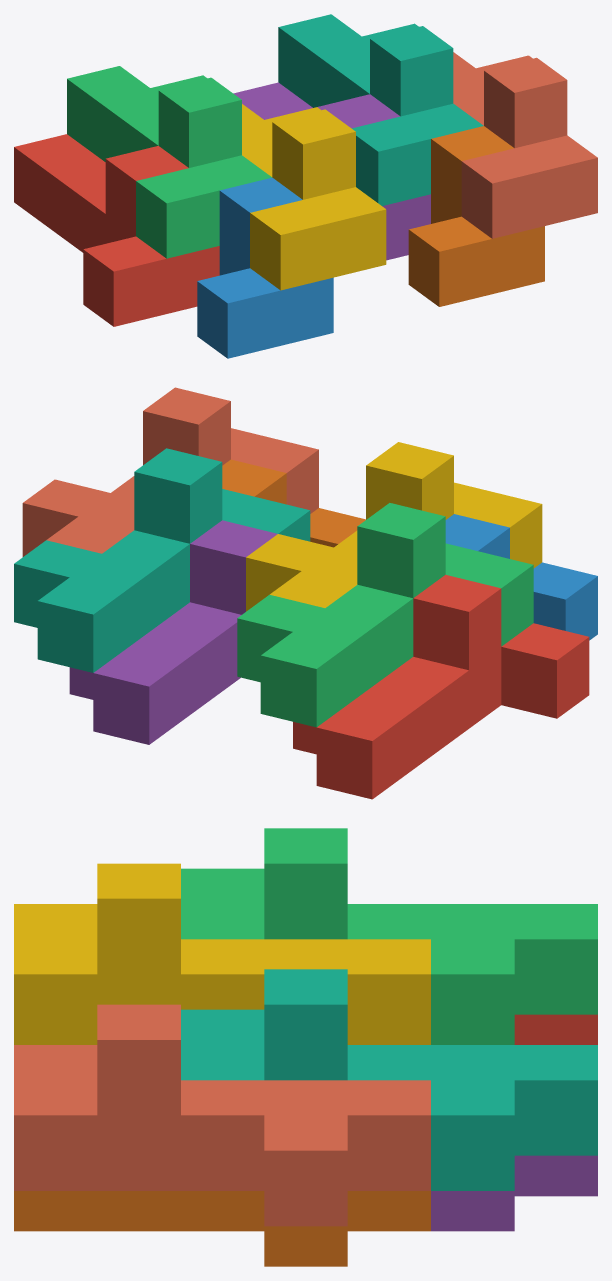
The model's file is tiling.obj.
3 views of the same model, one above another, from view 1: azimuth 30°, elevation 25°; view 2: azimuth 150°, elevation 25°; view 3: azimuth 270°, elevation 25° (orthographic). The views are drawn at different scales.
Visible parts, largest first — view 1: copy_1_domain_3, copy_1_domain_7, copy_1_domain_1, copy_1_domain_8, copy_1_domain_4, copy_1_domain_2, copy_1_domain_6, copy_1_domain_5; view 2: copy_1_domain_1, copy_1_domain_3, copy_1_domain_7, copy_1_domain_5, copy_1_domain_8, copy_1_domain_4, copy_1_domain_2, copy_1_domain_6; view 3: copy_1_domain_8, copy_1_domain_4, copy_1_domain_7, copy_1_domain_3, copy_1_domain_6, copy_1_domain_5, copy_1_domain_1.
Part boxes in pixels (x1,y1,x2,y2): copy_1_domain_3: (67,66,271,258); copy_1_domain_7: (278,14,483,205); copy_1_domain_1: (14,134,219,326); copy_1_domain_8: (453,52,597,238); copy_1_domain_4: (242,104,386,290); copy_1_domain_2: (197,177,333,358); copy_1_domain_6: (408,126,544,306); copy_1_domain_5: (233,82,430,260); copy_1_domain_1: (293,574,589,799); copy_1_domain_3: (237,503,533,727); copy_1_domain_7: (14,448,310,672); copy_1_domain_5: (69,520,277,744); copy_1_domain_8: (22,387,318,556); copy_1_domain_4: (246,442,542,611); copy_1_domain_2: (445,514,597,640); copy_1_domain_6: (222,459,365,547); copy_1_domain_8: (14,1004,430,1226); copy_1_domain_4: (14,863,430,1044); copy_1_domain_7: (181,969,597,1190); copy_1_domain_3: (181,828,597,1044); copy_1_domain_6: (14,1191,430,1266); copy_1_domain_5: (431,1155,597,1231); copy_1_domain_1: (514,1014,597,1044).
Size of the model in its own units: 9 by 3 by 7.
